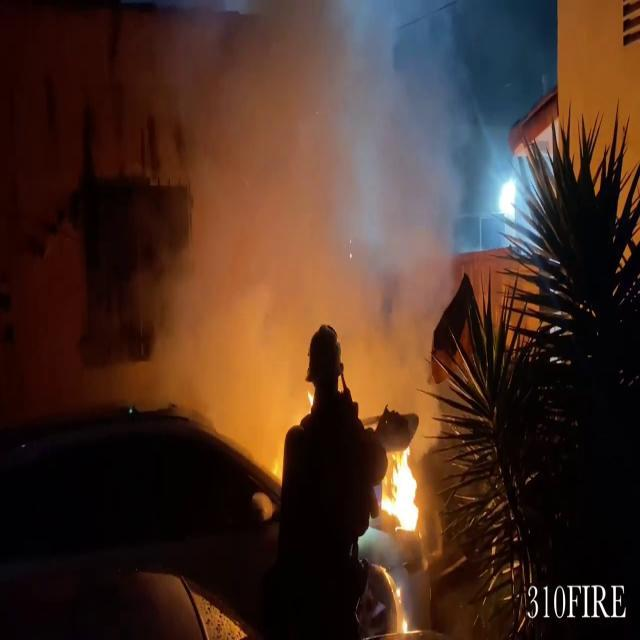Fire: (378, 444, 424, 536)
Smoke: (49, 1, 464, 419)
